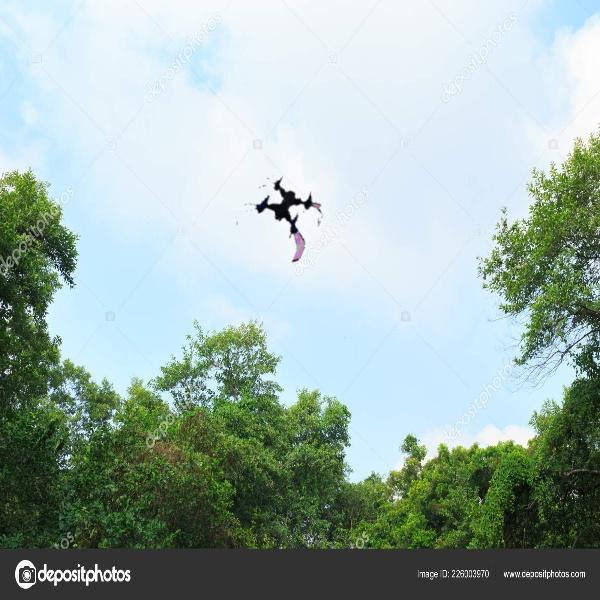drone: (236, 172, 326, 262)
